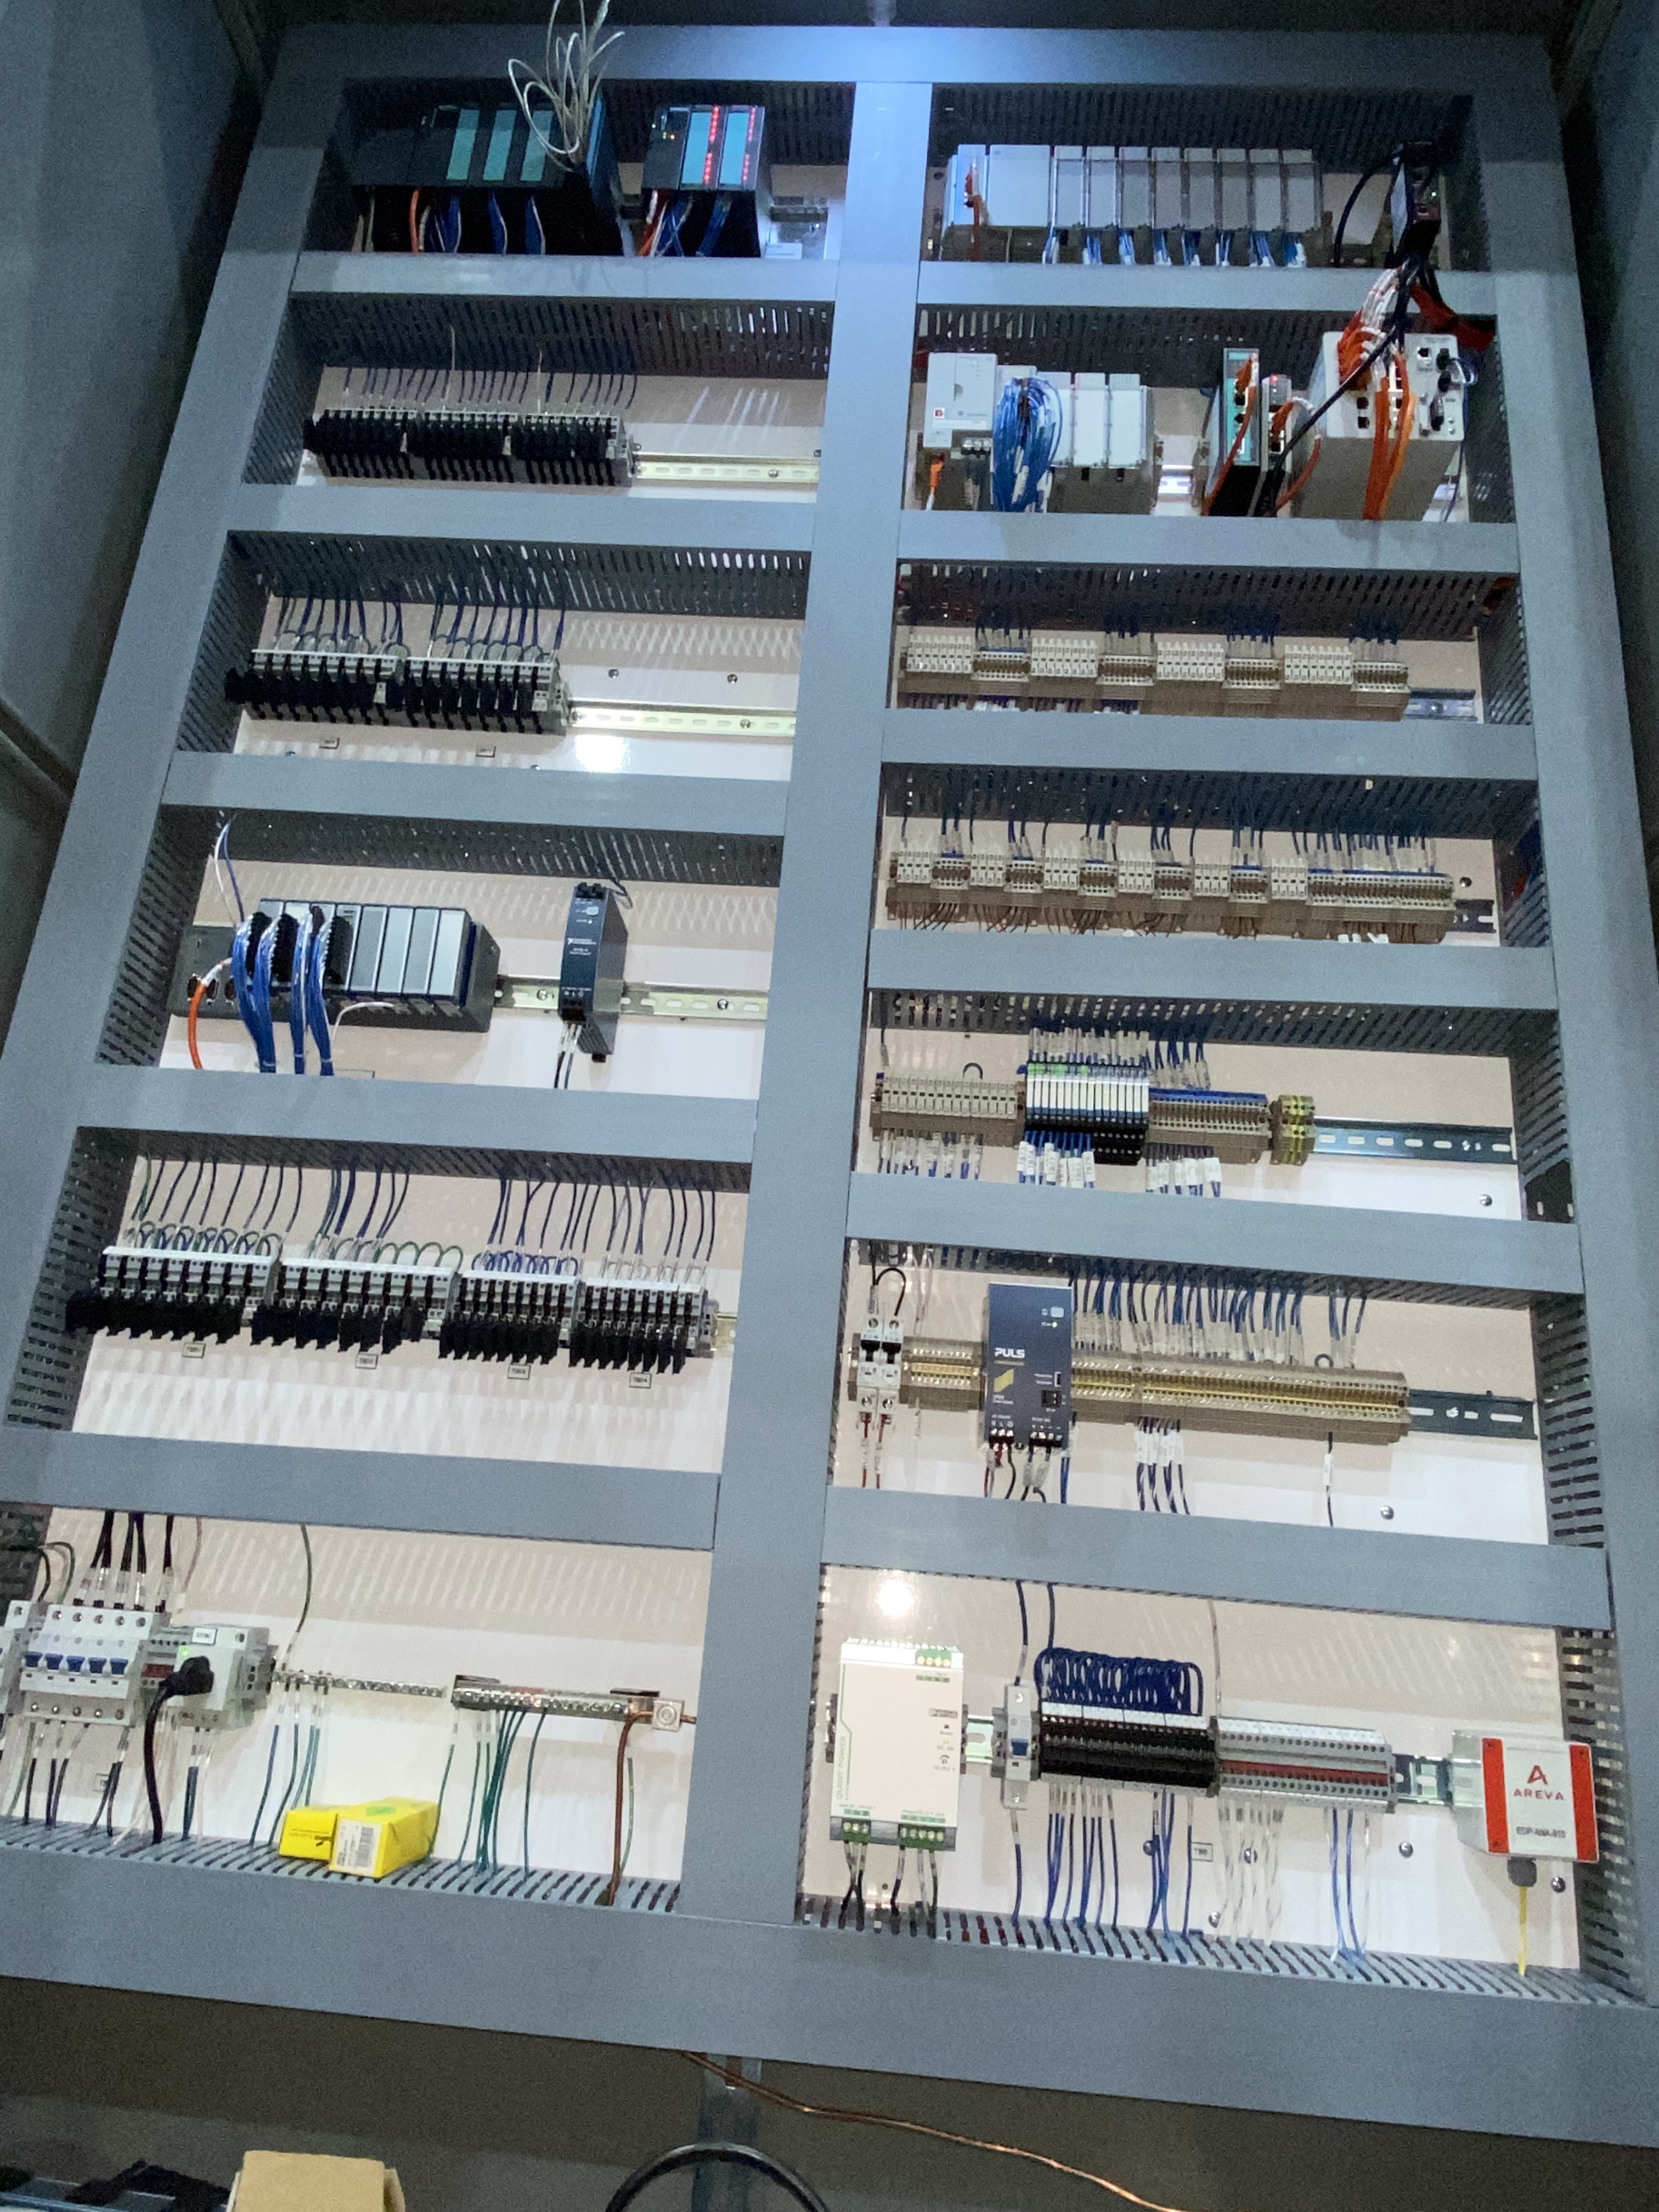AllenBradley: (920, 345, 1000, 462)
Siemens: (413, 105, 457, 190)
